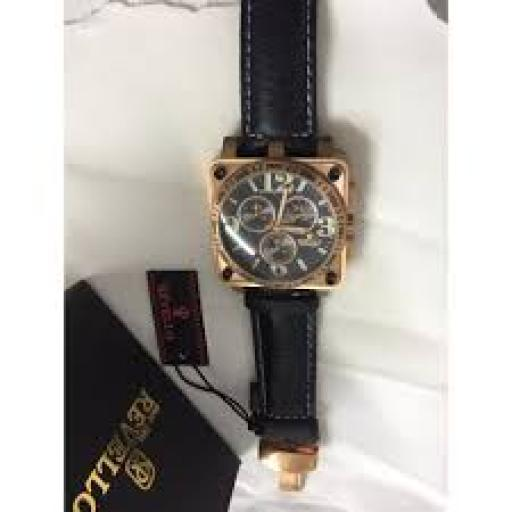KolSaati: (172, 58, 376, 496)
